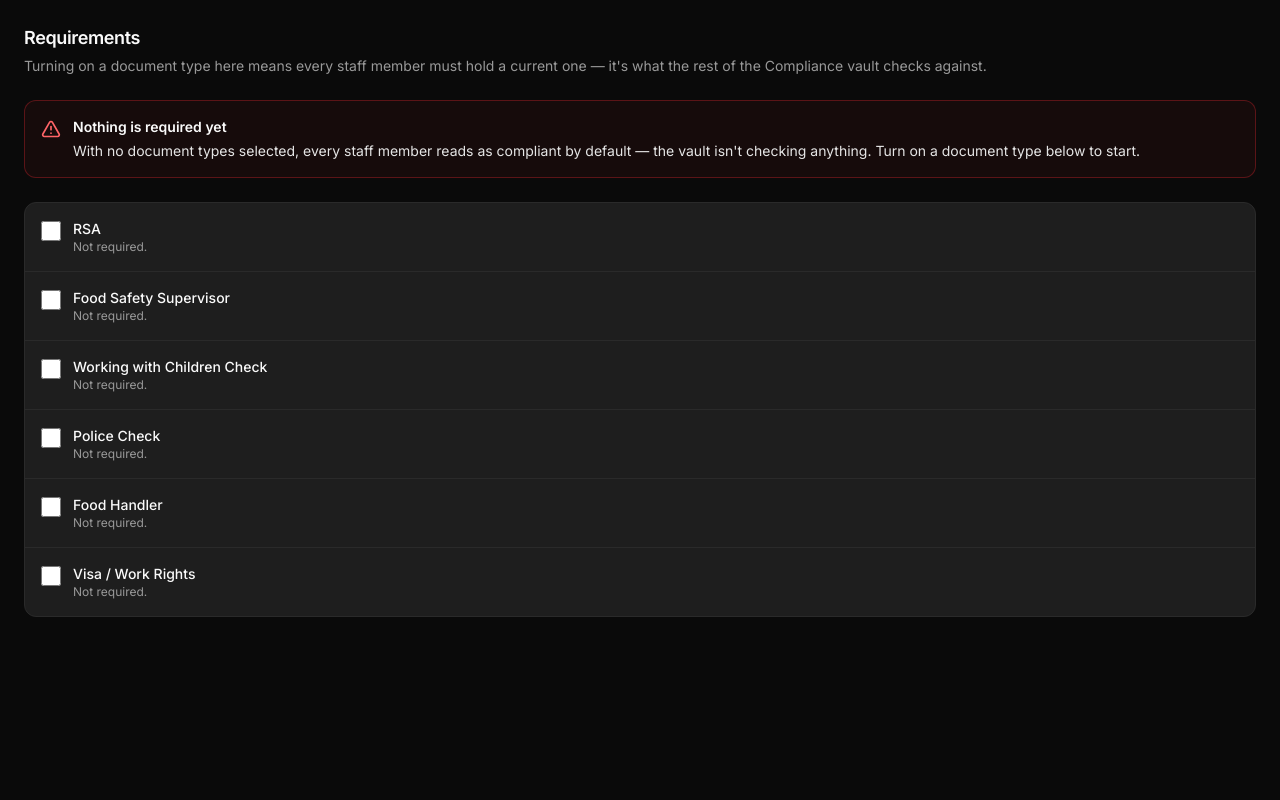
RequiredDocumentsTab › lets an admin turn a document type on, saving the full updated set
What coordinates should you click on to do the following:
click the checkbox labelled "RSA"
I would click on:
 (51, 231)
Its box is x1=41 y1=221 x2=61 y2=241.
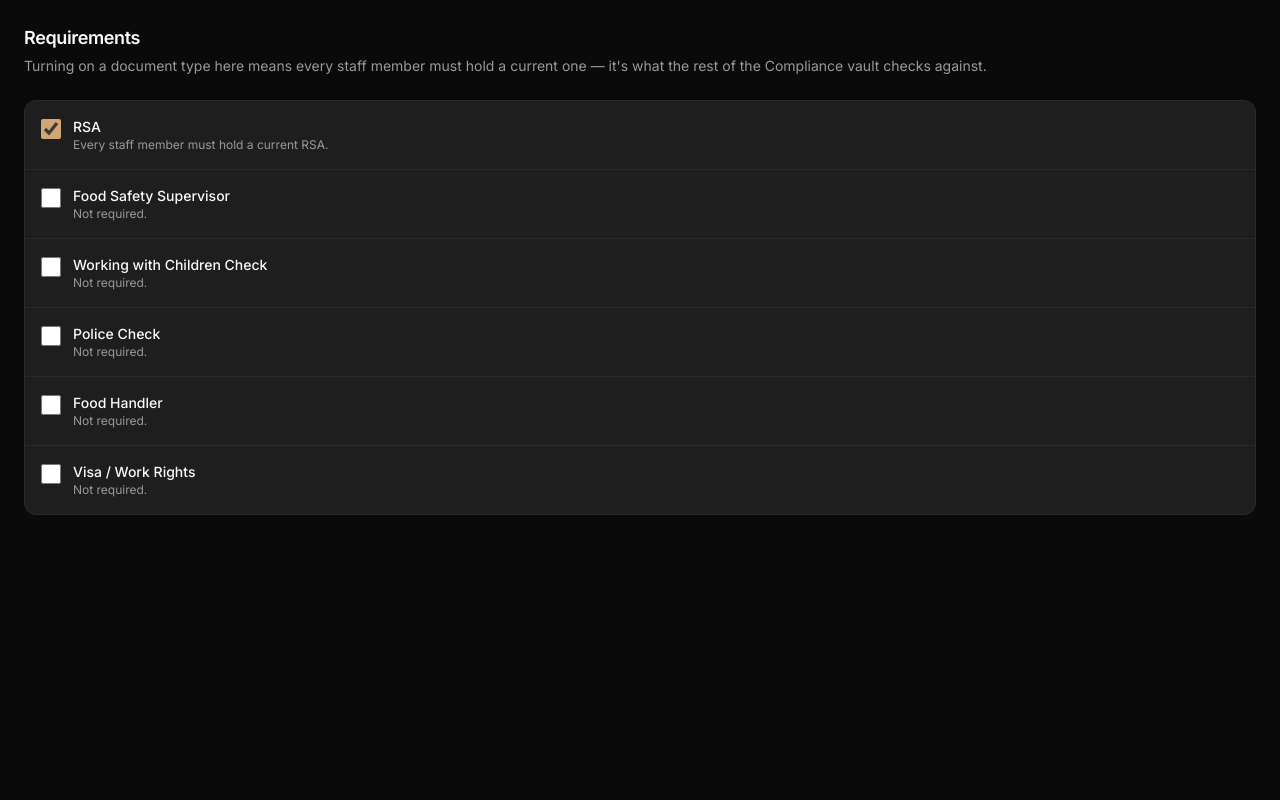
expect the checkbox labelled "RSA" is checked: met, box x1=41 y1=119 x2=61 y2=139
expect the text "Nothing is required yet" is gone: met
expect the text "Every staff member must hold a current RSA." is shown: met, box x1=73 y1=137 x2=328 y2=153
